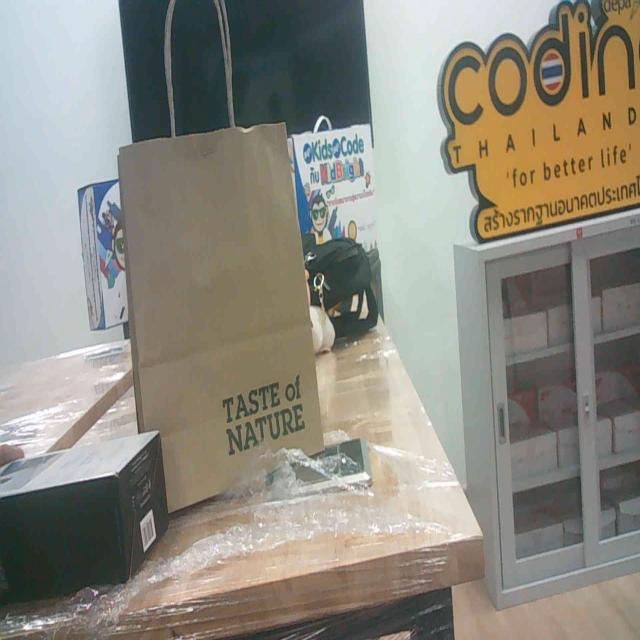bag: (117, 117, 309, 473)
